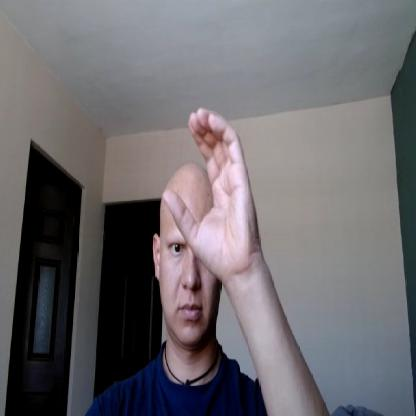C: (163, 110, 258, 278)
